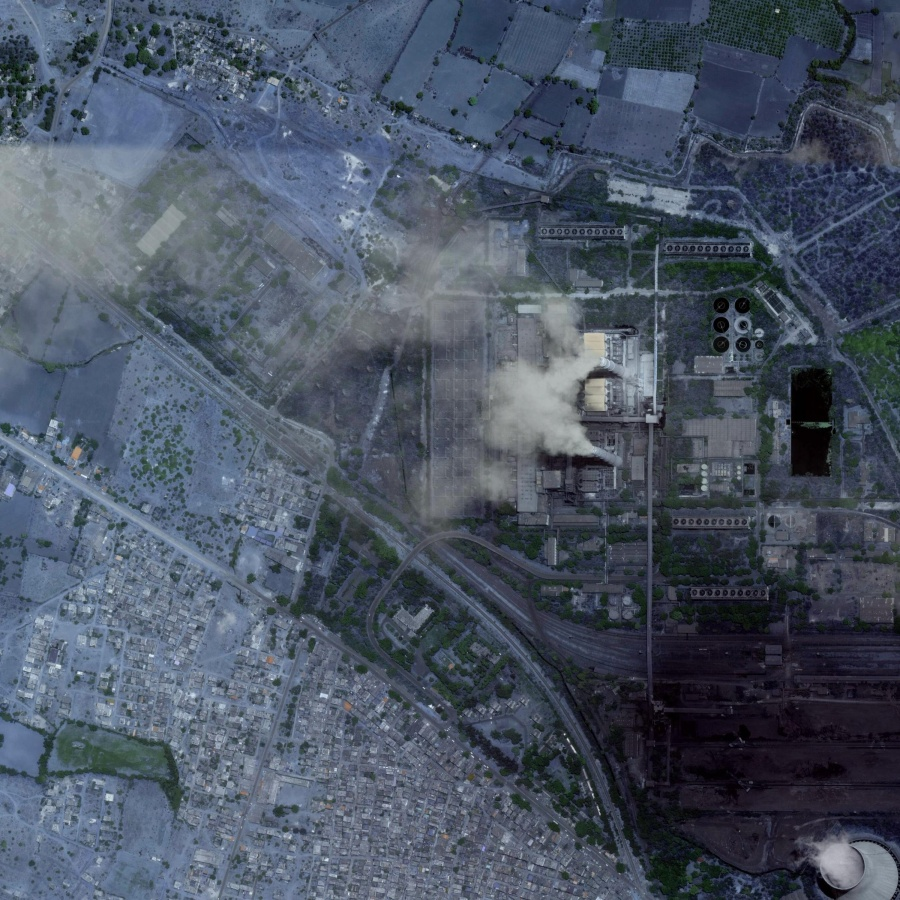PowerPlant: (433, 217, 705, 537)
